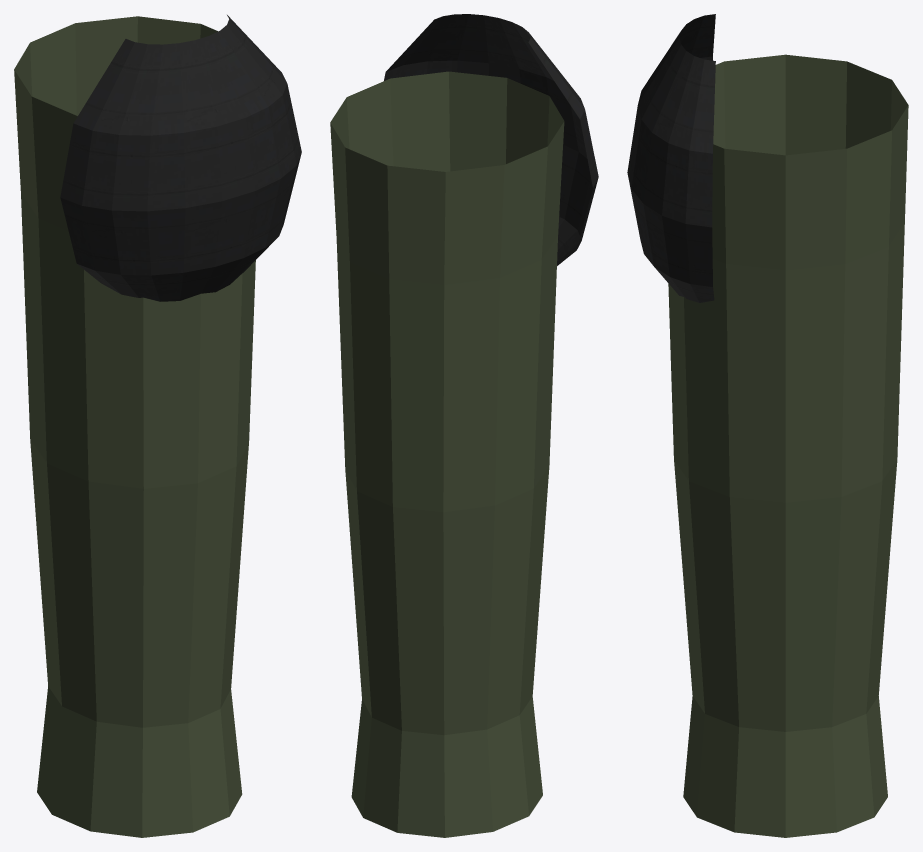
File: eq_present_1_leg.glb
3 renders of one model, left to right at view 1: azimuth 30°, elevation 25°; view 2: azimuth 150°, elevation 25°; view 3: azimuth 270°, elevation 25°, orthographic. The views are drawn at different scales.
Parts seen in each view (by area): view 1: eq_present_1_leg; view 2: eq_present_1_leg; view 3: eq_present_1_leg.
Boxes of the visible parts, x1,y1,x2,y2 form: eq_present_1_leg: (14, 15, 301, 837); eq_present_1_leg: (330, 14, 598, 837); eq_present_1_leg: (627, 14, 908, 837).
Size of the model in its own units: 0.1396 by 0.45 by 0.151.
2 materials, 2 textured.
